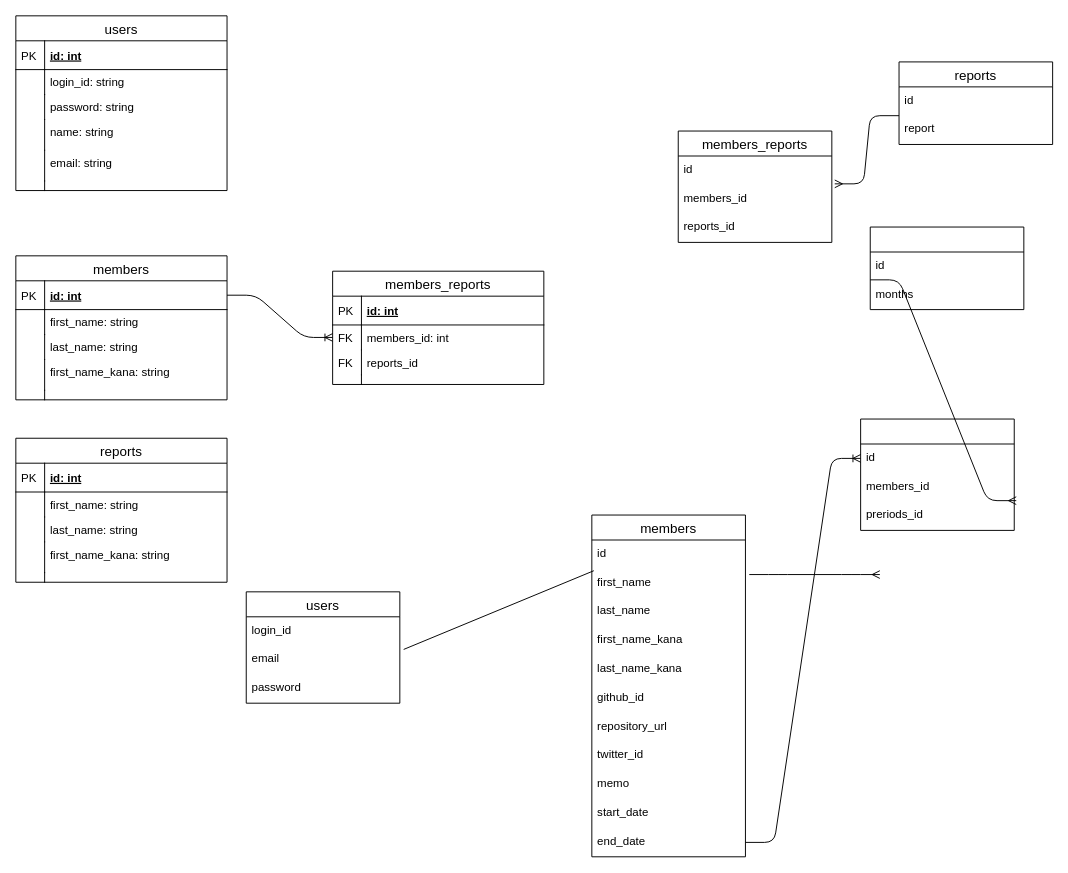
This 1068x873 diagram has some shape labels left out. Here are the shapes that lost their labels. From the top down, the box of each, then its label:
(869, 226, 1024, 310): periods
(860, 418, 1014, 530): members_periods
